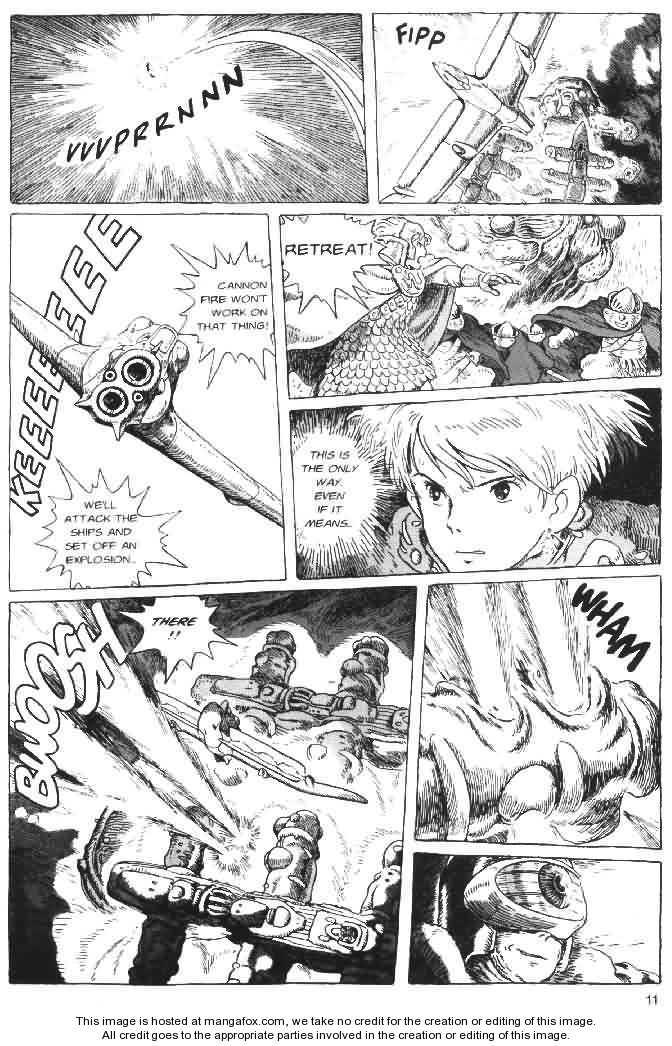Bubble: (33, 456, 189, 590), (172, 241, 277, 390), (278, 213, 393, 320), (116, 595, 239, 684), (290, 432, 377, 552)
